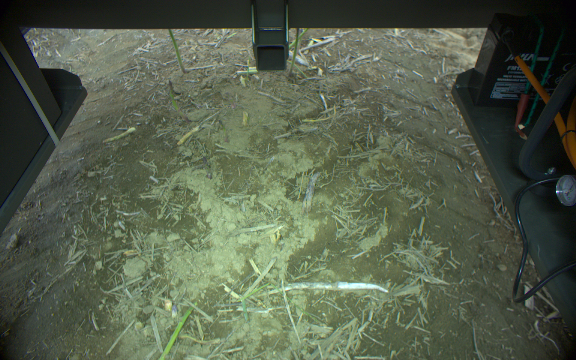aspa: (150, 300, 200, 360), (165, 78, 190, 122), (166, 28, 186, 74), (288, 27, 301, 76), (289, 28, 312, 51)
